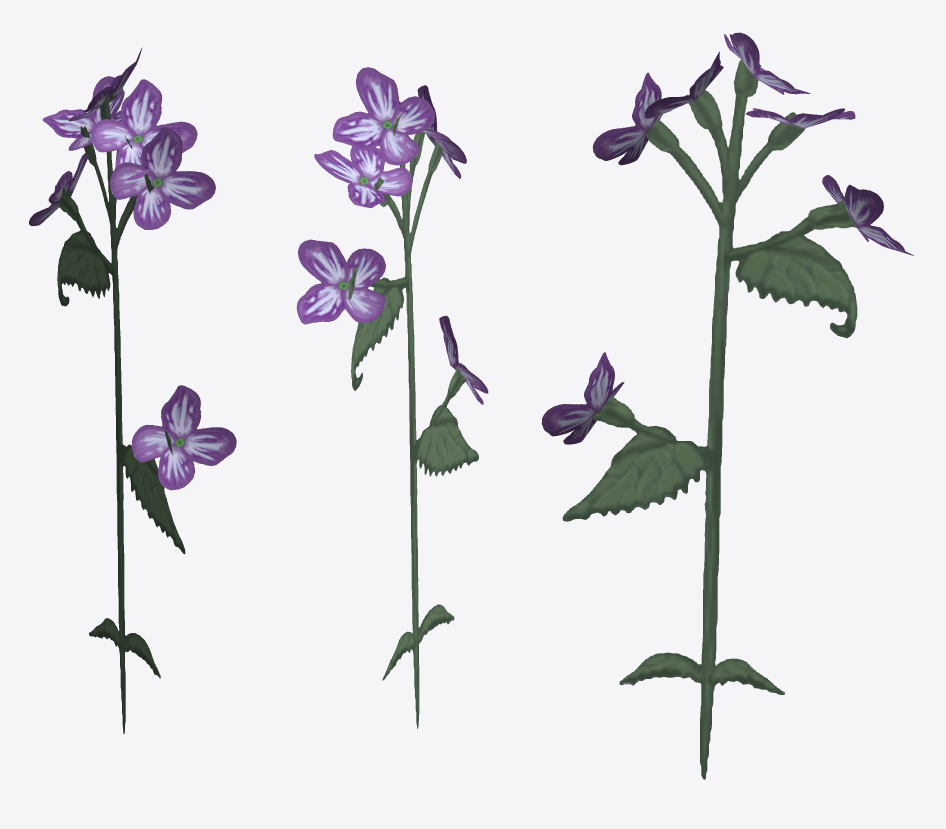
Rendered from Flower1.fbx.
3 views of the same model, side by side, from view 1: azimuth 30°, elevation 25°; view 2: azimuth 150°, elevation 25°; view 3: azimuth 270°, elevation 25° (orthographic). The views are drawn at different scales.
Parts seen in each view (by area): view 1: Flower1; view 2: Flower1; view 3: Flower1.
Part boxes in pixels (x1,y1,x2,y2): Flower1: (29, 47, 236, 733); Flower1: (296, 67, 488, 728); Flower1: (541, 32, 913, 779).
Bounding box in the file's own units: 0.4287 × 2.71 × 1.22.
1 material, 1 textured.
